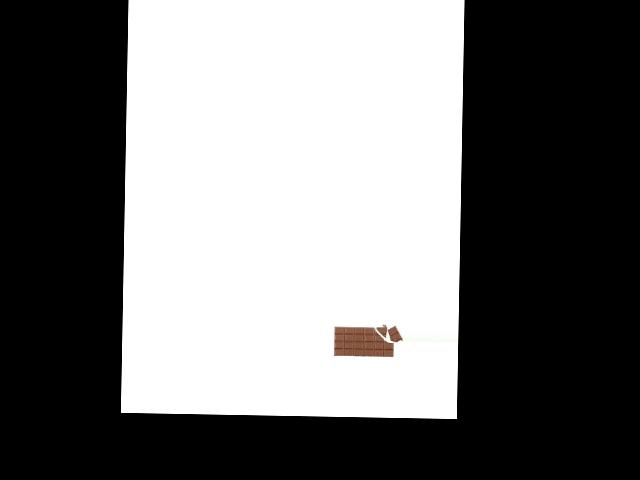chocolate: (332, 317, 403, 362)
